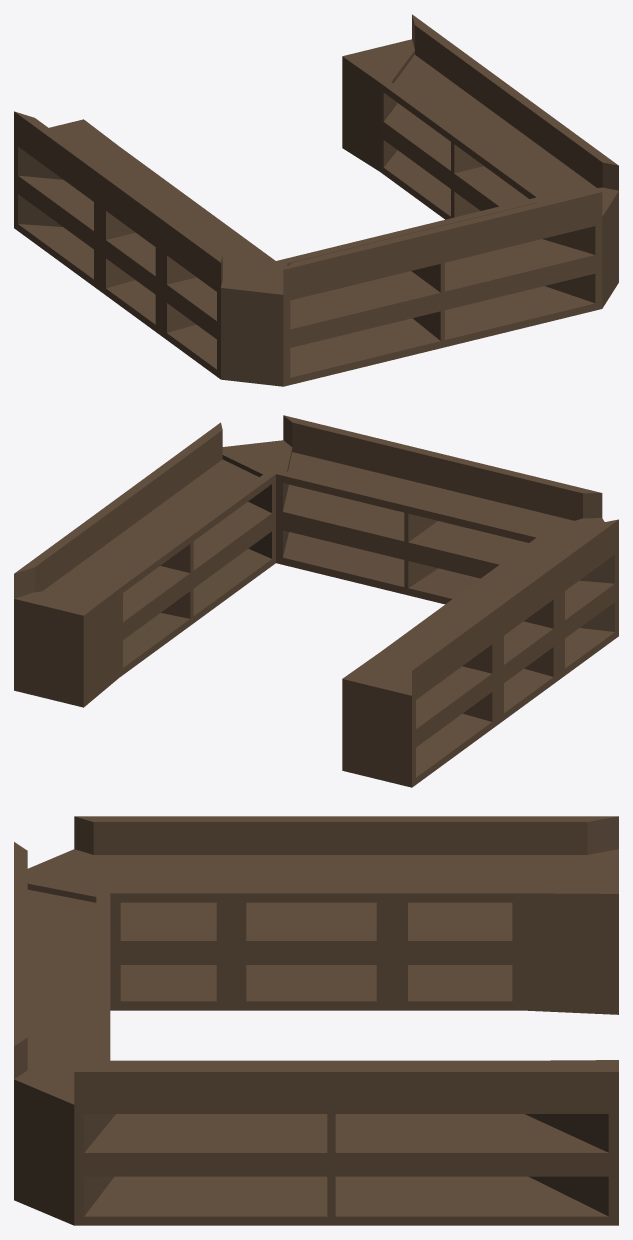
File: Kiosko 2.fbx
3 views of the same model, one above another, from view 1: azimuth 30°, elevation 25°; view 2: azimuth 150°, elevation 25°; view 3: azimuth 270°, elevation 25° (orthographic). The views are drawn at different scales.
Parts seen in each view (by area): view 1: Kiosko_2; view 2: Kiosko_2; view 3: Kiosko_2.
Part boxes in pixels (bbox=[...]): Kiosko_2: bbox=[14, 14, 618, 386]; Kiosko_2: bbox=[14, 415, 618, 787]; Kiosko_2: bbox=[14, 816, 618, 1225].
Size of the model in its own units: 6.67 by 1.87 by 6.67.
